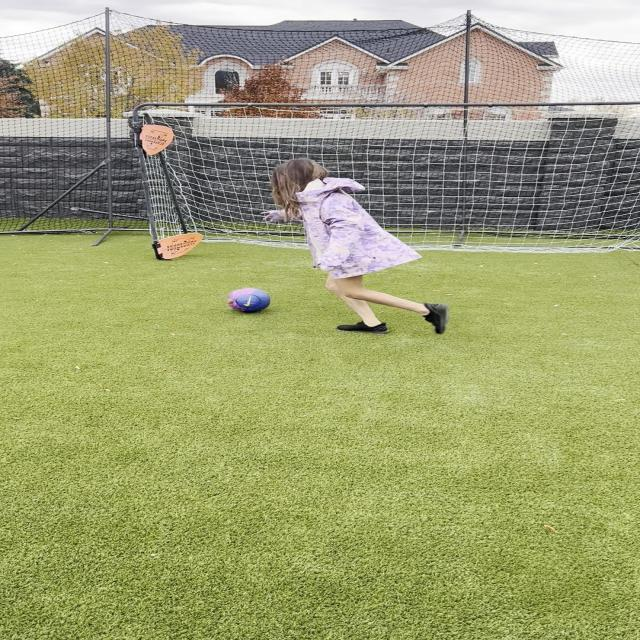Soccer Ball: (227, 287, 271, 312)
